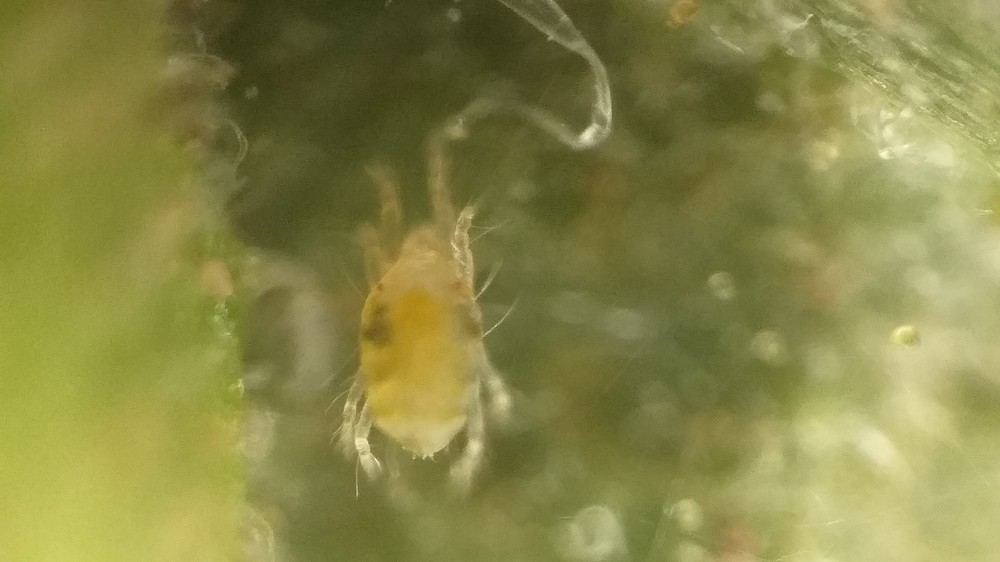Aracnido Rojo: (302, 130, 553, 516)
